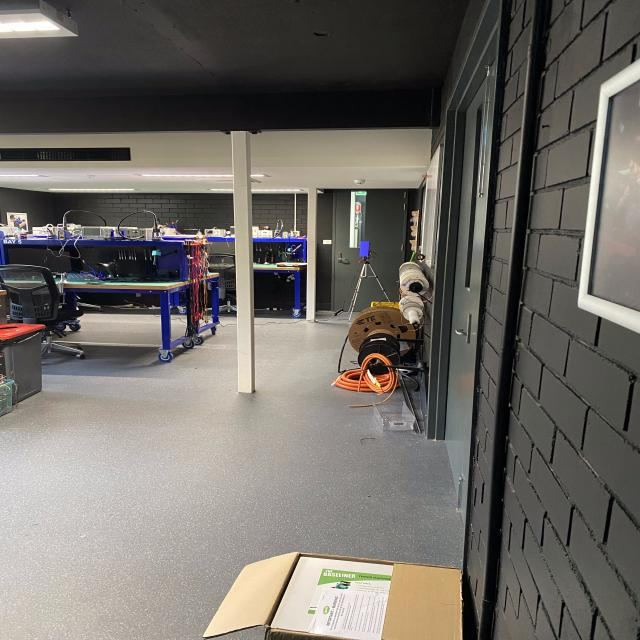matrix: (359, 240, 370, 258)
